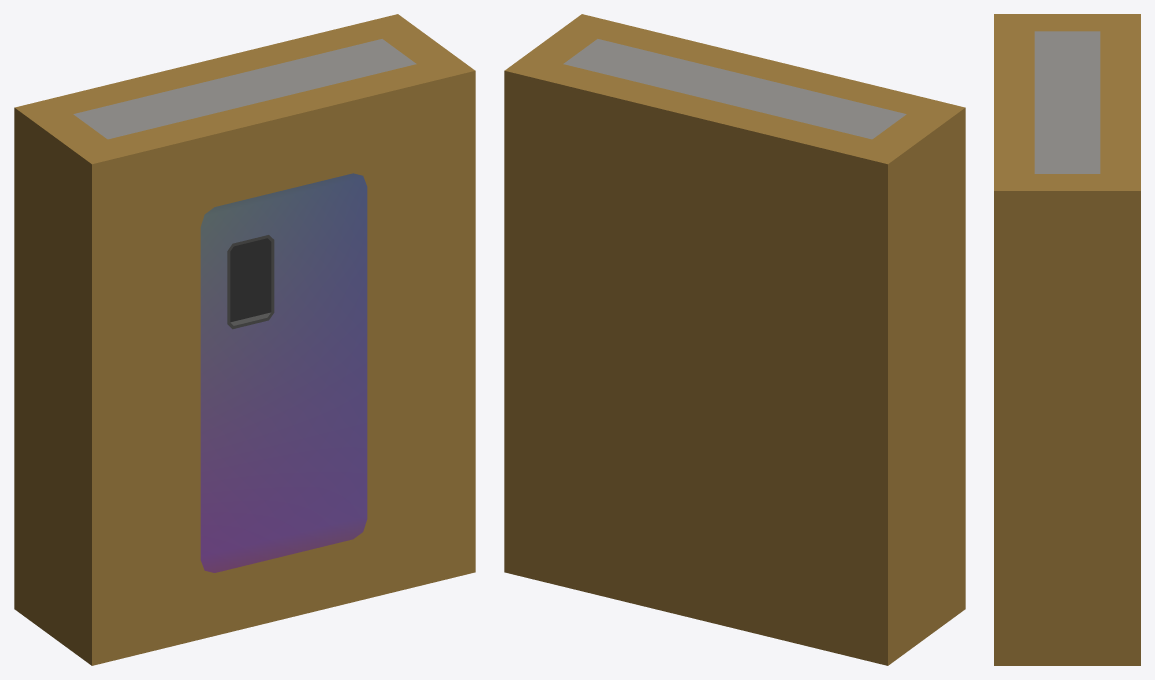
File: SM_Props_Interior_Shop_Electronic_Product_Box_02.fbx
3 renders of one model, left to right at view 1: azimuth 30°, elevation 25°; view 2: azimuth 150°, elevation 25°; view 3: azimuth 270°, elevation 25°, orthographic. The views are drawn at different scales.
Visible parts, largest first — view 1: SM_Props_Interior_Shop_Electronic_Product_Box_02; view 2: SM_Props_Interior_Shop_Electronic_Product_Box_02; view 3: SM_Props_Interior_Shop_Electronic_Product_Box_02.
Part boxes in pixels (x1,y1,x2,y2): SM_Props_Interior_Shop_Electronic_Product_Box_02: (14, 14, 475, 665); SM_Props_Interior_Shop_Electronic_Product_Box_02: (504, 14, 965, 665); SM_Props_Interior_Shop_Electronic_Product_Box_02: (994, 14, 1140, 665).
Size of the model in its own units: 20 by 25 by 7.
